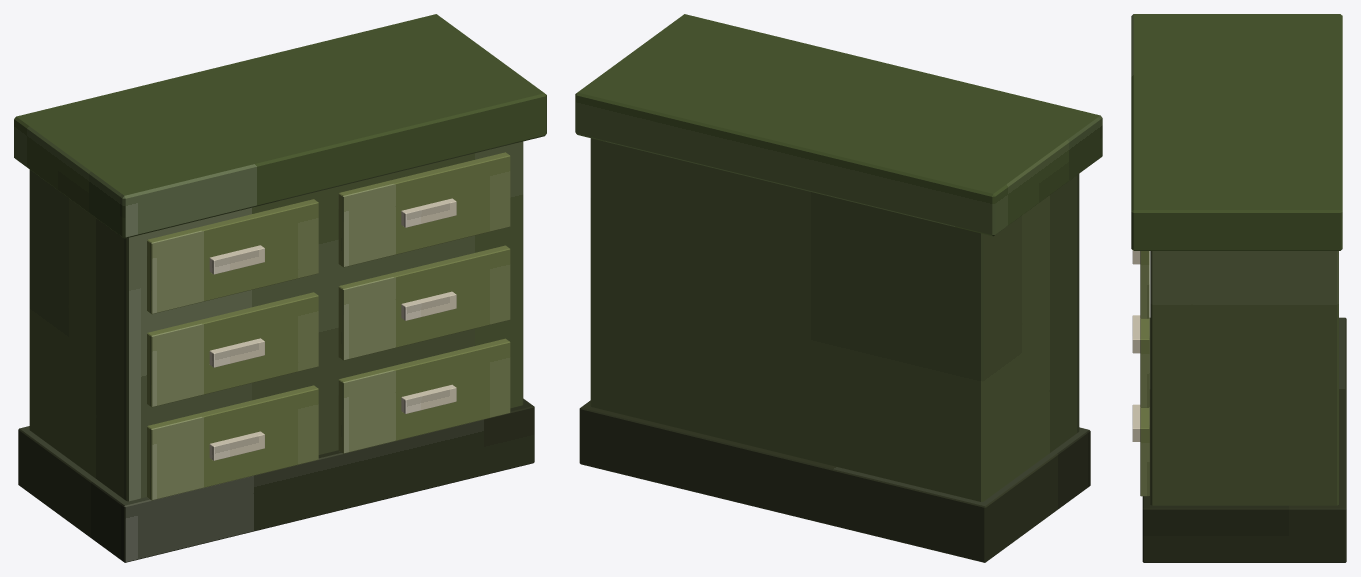
File: bedroom_dresser_olive.glb
3 views of the same model, side by side, from view 1: azimuth 30°, elevation 25°; view 2: azimuth 150°, elevation 25°; view 3: azimuth 270°, elevation 25° (orthographic). The views are drawn at different scales.
Parts seen in each view (by area): view 1: DresserTop, DresserBody, DresserPlinth, DresserDrawer_2_2, DresserDrawer_1_2, DresserDrawer_3_2, DresserDrawer_3_1, DresserDrawer_1_1, DresserDrawer_2_1, DresserHandle_1_1, DresserHandle_2_1, DresserHandle_3_1 (+3 smaller); view 2: DresserBody, DresserTop, DresserPlinth; view 3: DresserTop, DresserBody, DresserPlinth, DresserDrawer_2_2, DresserDrawer_3_2, DresserDrawer_1_2, DresserHandle_2_2, DresserHandle_3_2.
Part boxes in pixels (<box>): DresserTop: <box>14,14,546,238</box>; DresserBody: <box>29,141,523,501</box>; DresserPlinth: <box>18,398,534,562</box>; DresserDrawer_2_2: <box>338,245,510,360</box>; DresserDrawer_1_2: <box>338,152,510,267</box>; DresserDrawer_3_2: <box>338,338,510,453</box>; DresserDrawer_3_1: <box>147,385,318,500</box>; DresserDrawer_1_1: <box>147,199,318,314</box>; DresserDrawer_2_1: <box>147,292,318,407</box>; DresserHandle_1_1: <box>209,245,264,274</box>; DresserHandle_2_1: <box>209,338,264,367</box>; DresserHandle_3_1: <box>209,431,264,460</box>; DresserBody: <box>590,138,1079,501</box>; DresserTop: <box>575,14,1102,236</box>; DresserPlinth: <box>579,400,1090,562</box>; DresserTop: <box>1131,14,1342,250</box>; DresserBody: <box>1150,251,1338,505</box>; DresserPlinth: <box>1142,317,1346,562</box>; DresserDrawer_2_2: <box>1140,318,1149,407</box>; DresserDrawer_3_2: <box>1140,407,1149,496</box>; DresserDrawer_1_2: <box>1140,251,1149,318</box>; DresserHandle_2_2: <box>1132,316,1140,353</box>; DresserHandle_3_2: <box>1132,404,1140,441</box>.
Size of the model in its own units: 1.24 by 1.04 by 0.57.
1 material, 1 textured.
